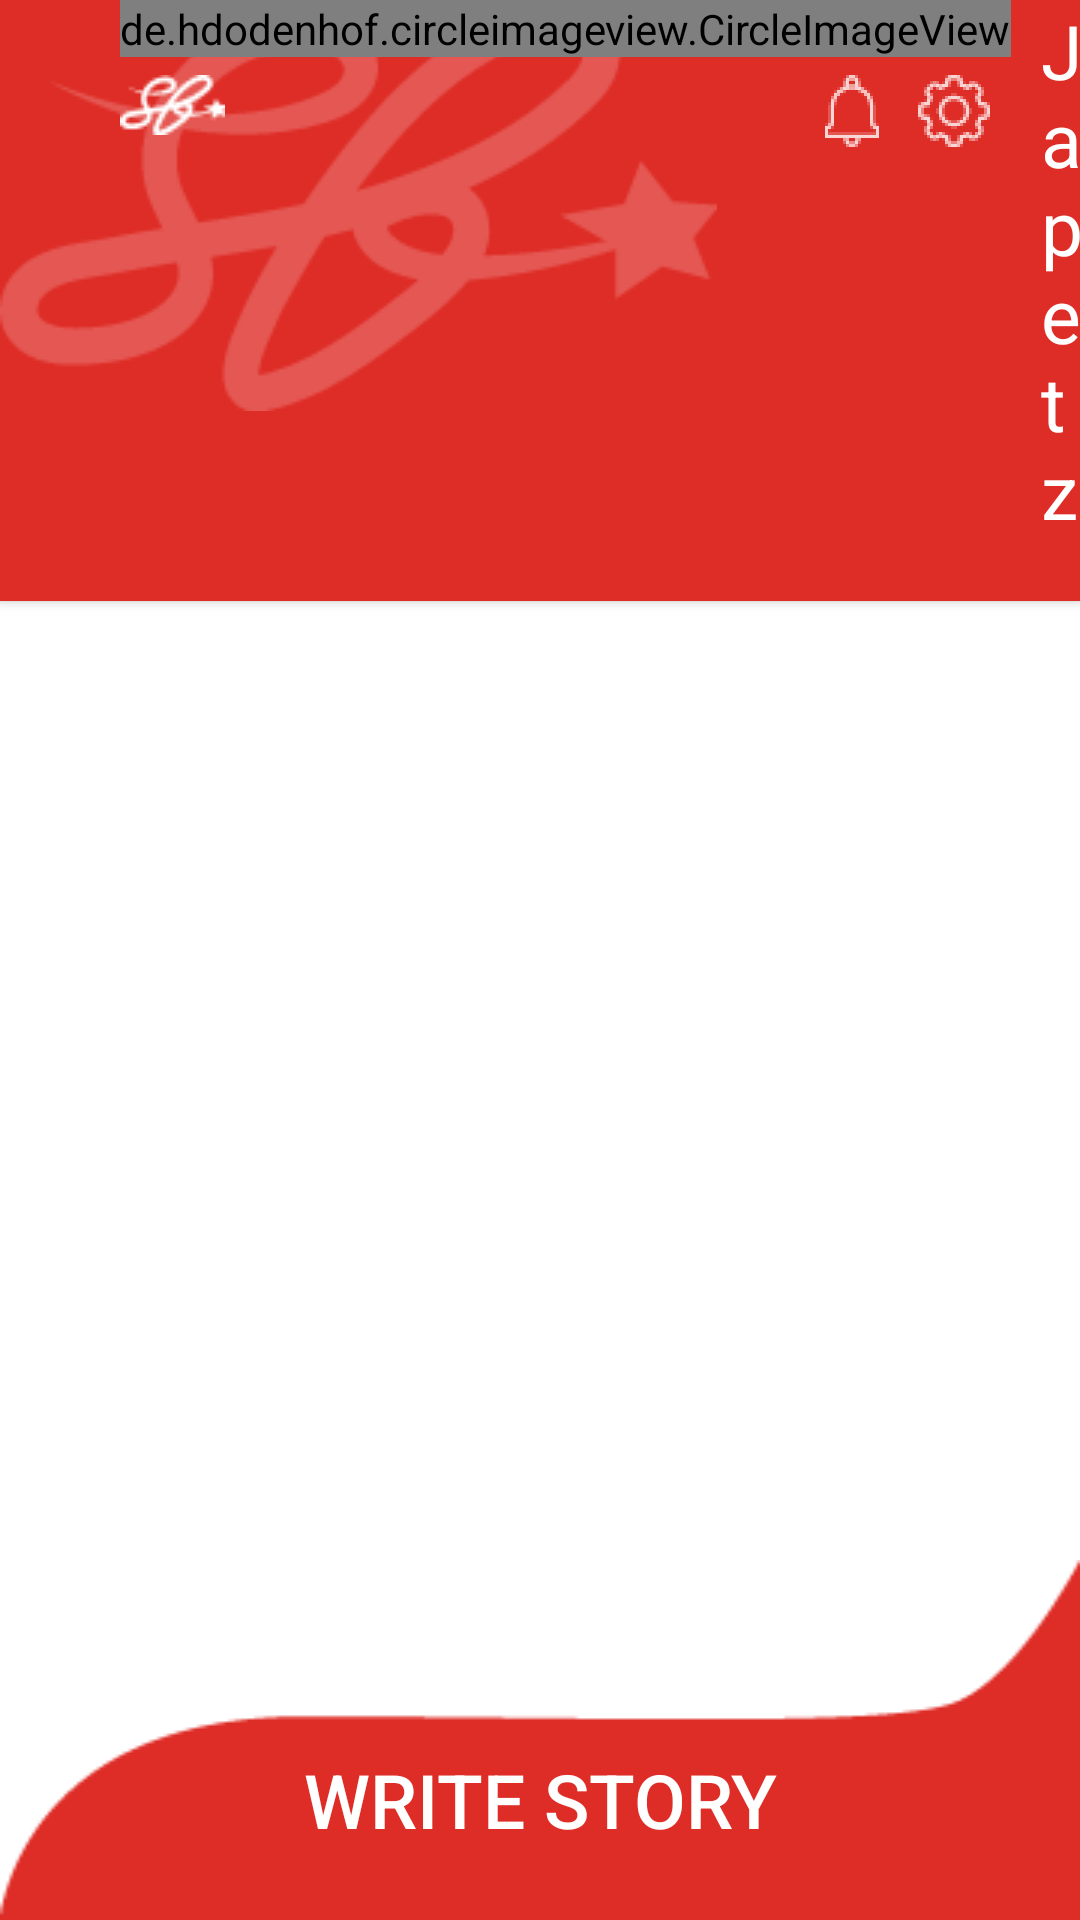

Named icons in this screenshot (1080px x 1920px) and their centers, (x,y):
notif: (852,111)
setting: (954,111)
